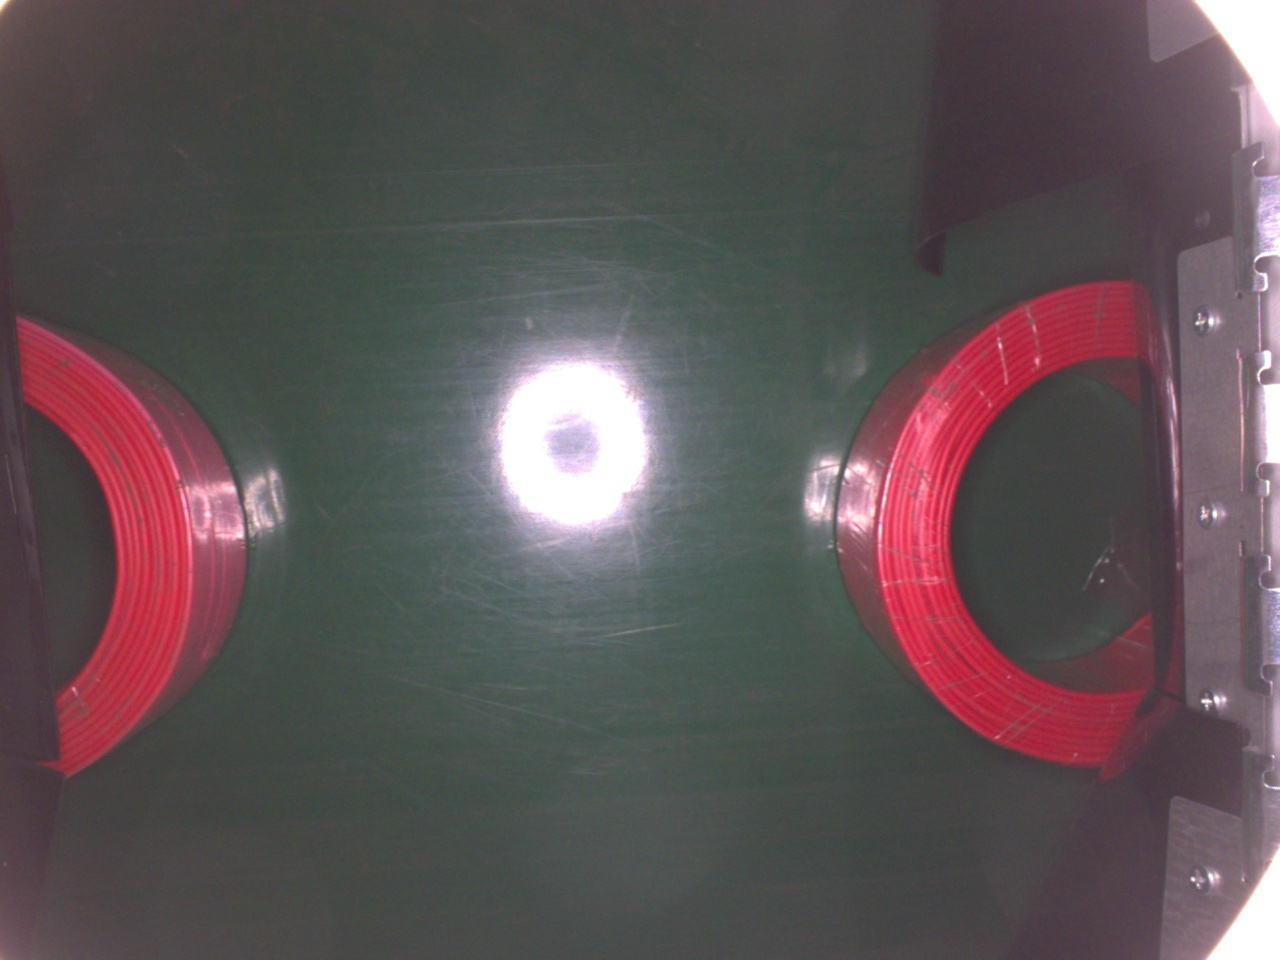red: (831, 276, 1151, 769), (15, 311, 253, 776)
